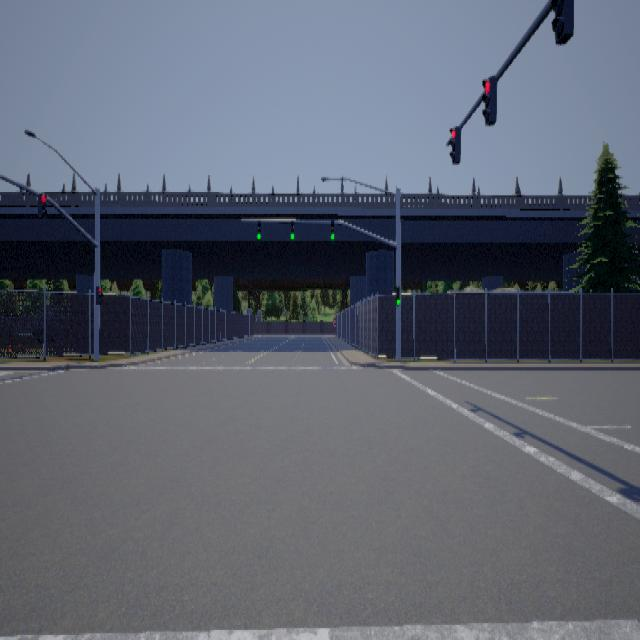green_light: (396, 286, 400, 306), (256, 219, 260, 239), (331, 220, 334, 240), (291, 220, 294, 240)
red_light: (481, 74, 496, 125), (448, 125, 460, 163), (37, 192, 46, 217), (95, 285, 102, 303)
traffic_light: (550, 0, 573, 44)
